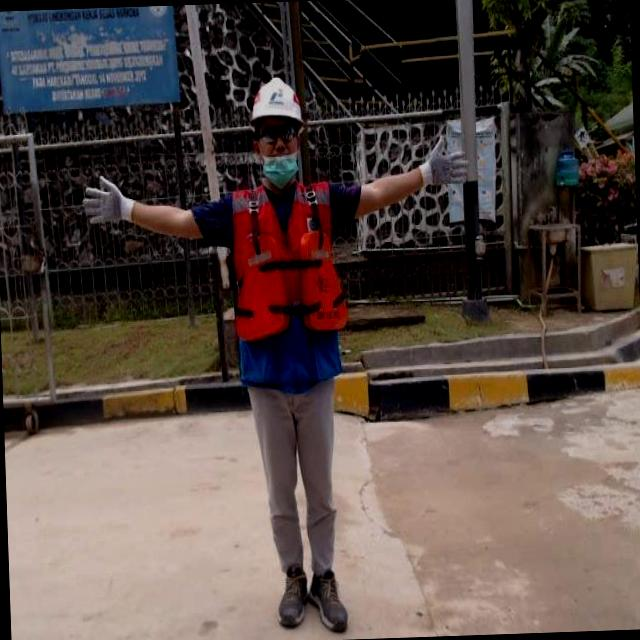boots: (307, 564, 352, 634), (274, 560, 310, 630)
gloves: (79, 172, 138, 229), (419, 136, 470, 189)
helmet: (248, 75, 310, 188)
vest: (228, 178, 350, 385)
